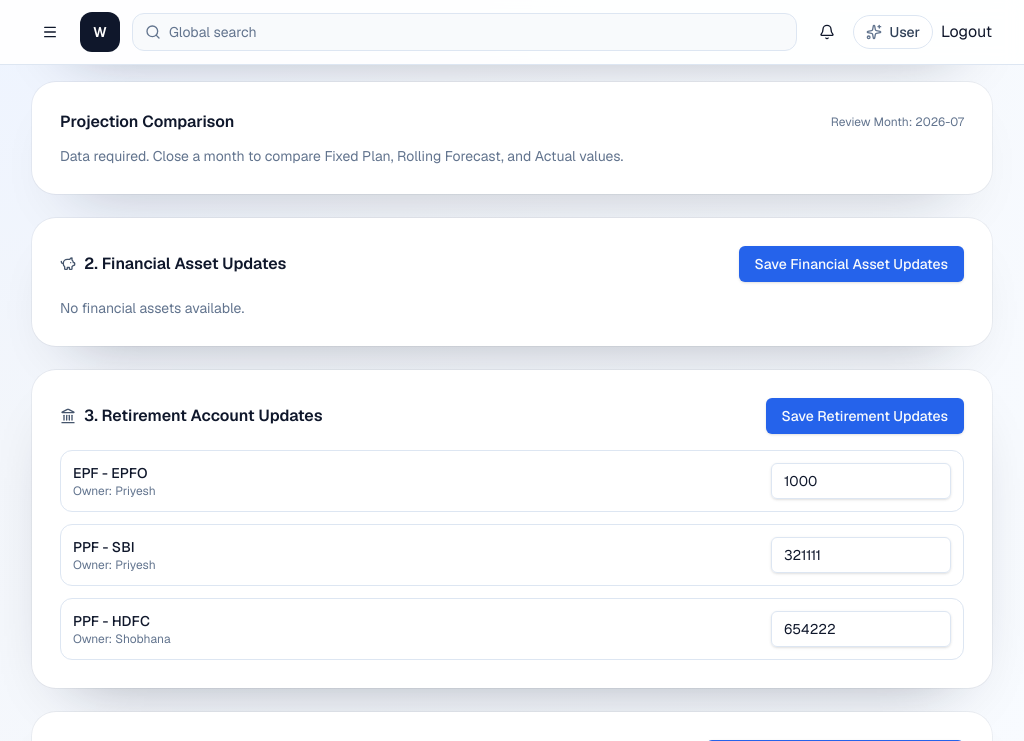
Scenario: MonthlyReviewPage › creates missing retirement canonical rows and sums multiple PPF accounts correctly
(page scrolled)
Expected: the heading "3. Retirement Account Updates" is shown, 84,404 -> 322,428
Click the button "Save Retirement Updates" at (865, 416), box 766,398 -> 964,434
(page scrolled)
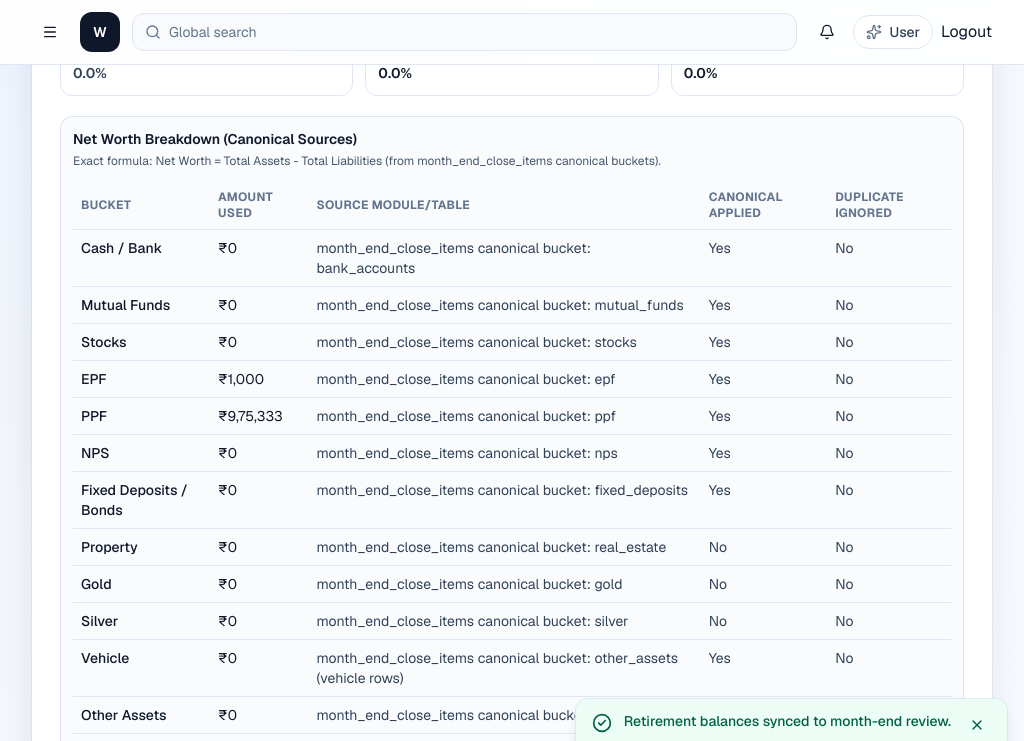
Now the text "Retirement balances synced to month-end review." is shown, box 624,711 -> 951,731
Now the text "₹9,75,333" is shown, box 210,398 -> 308,434
